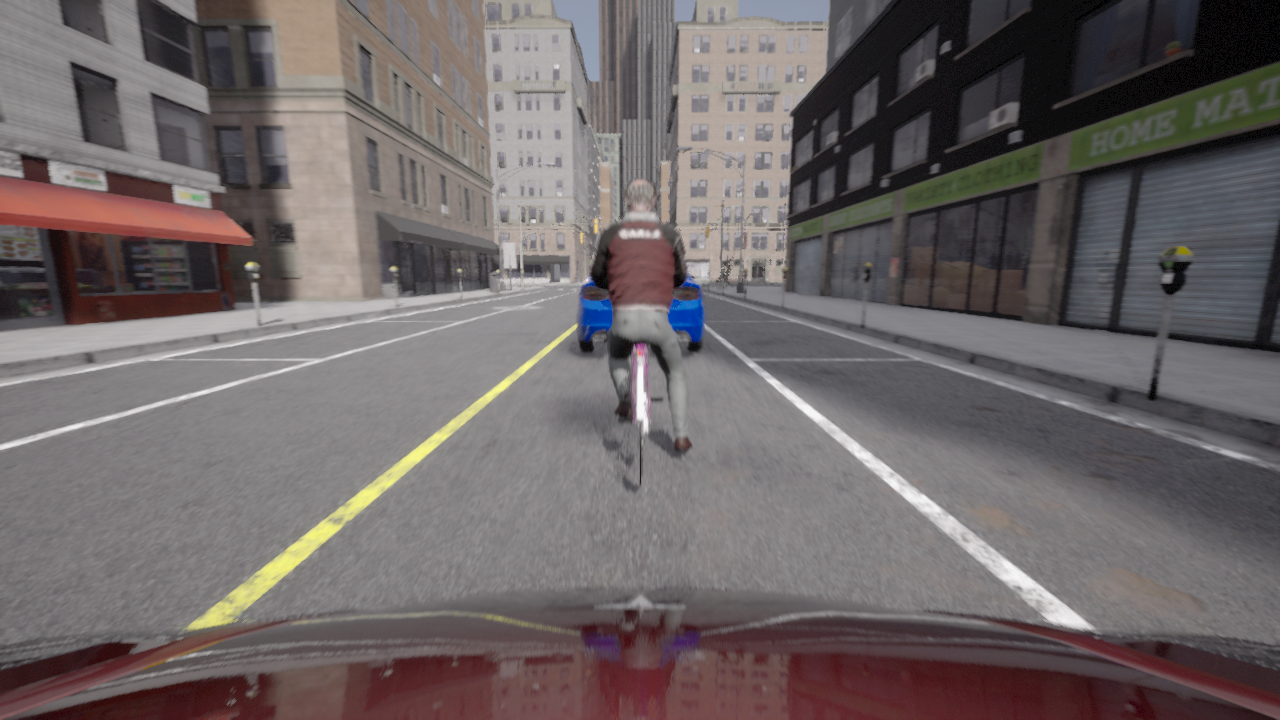cyclist: (0, 588, 1279, 719), (577, 273, 704, 351), (617, 343, 663, 485)
